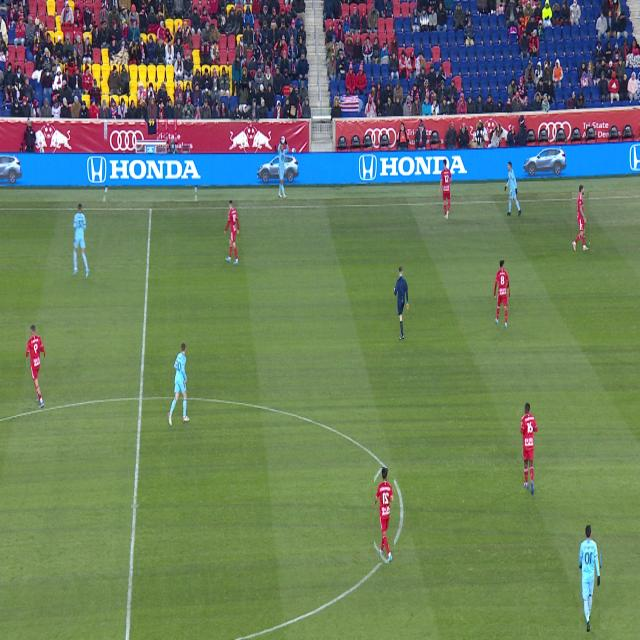player: (580, 525, 600, 632), (374, 468, 394, 563), (168, 343, 190, 426), (521, 403, 537, 495), (27, 325, 44, 408), (73, 204, 89, 278), (573, 185, 589, 251), (495, 260, 509, 328), (224, 201, 239, 264), (505, 162, 521, 216), (439, 160, 451, 219)
referee: (394, 267, 409, 339)
